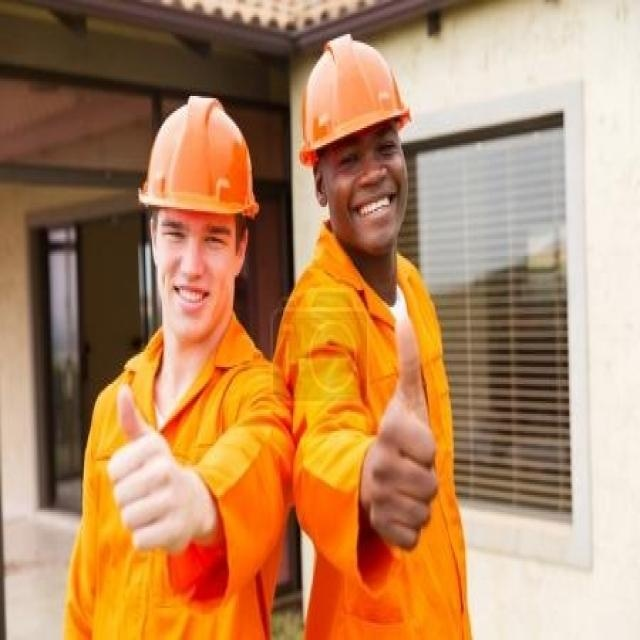Sin_Casco_Mascarrilla: (137, 94, 259, 329), (296, 30, 413, 241)
